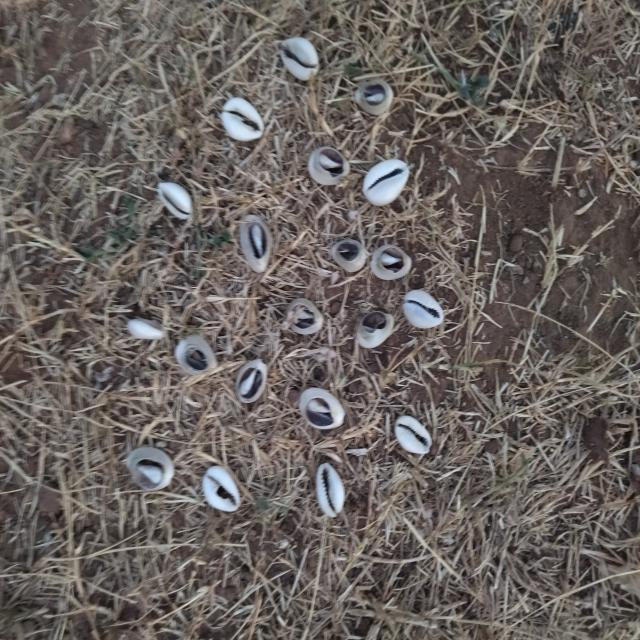facedown: (123, 442, 178, 496), (297, 386, 348, 438), (174, 330, 221, 383), (238, 210, 274, 276), (304, 140, 351, 188), (233, 351, 271, 407), (352, 75, 397, 118), (283, 294, 326, 339), (329, 235, 369, 276), (355, 309, 395, 350), (372, 245, 414, 282)
faceup: (361, 156, 414, 210), (199, 458, 243, 516), (400, 283, 447, 336), (276, 31, 322, 84), (218, 98, 267, 145), (394, 405, 434, 461), (312, 458, 348, 520), (155, 180, 196, 226), (124, 311, 170, 350)
